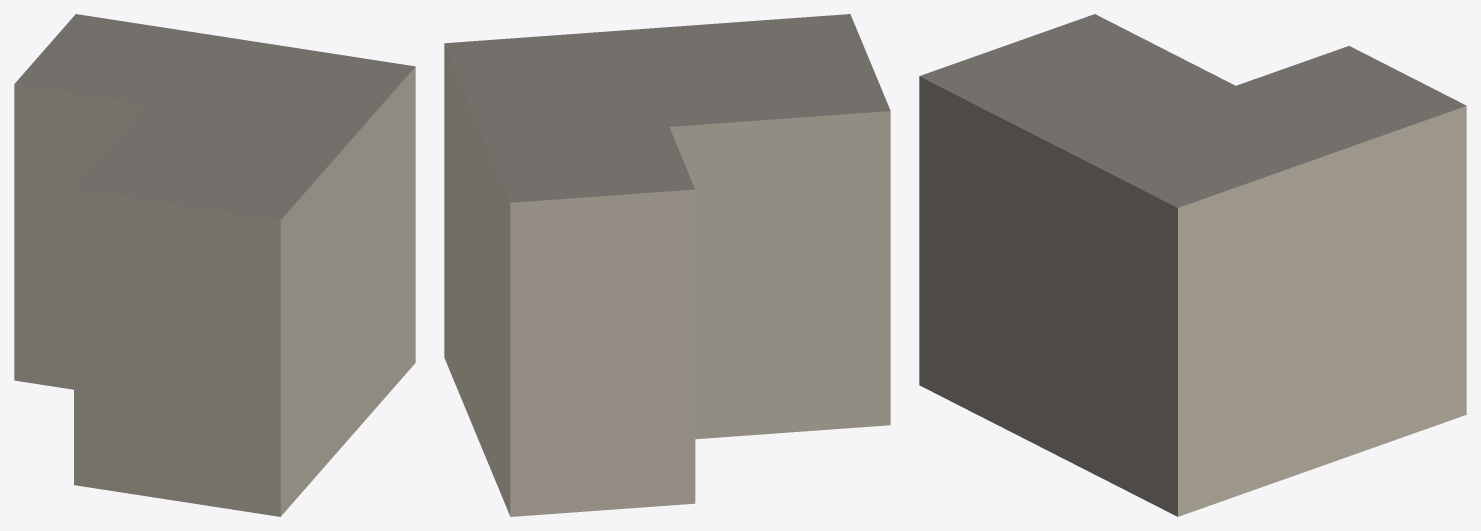
3 views of the same model, side by side, from view 1: azimuth 30°, elevation 25°; view 2: azimuth 150°, elevation 25°; view 3: azimuth 270°, elevation 25° (orthographic). The views are drawn at different scales.
Parts seen in each view (by area): view 1: HP-w859488872; view 2: HP-w859488872; view 3: HP-w859488872.
Boxes of the visible parts, x1=… form: HP-w859488872: x1=14, y1=14, x2=415, y2=516; HP-w859488872: x1=444, y1=14, x2=890, y2=516; HP-w859488872: x1=919, y1=14, x2=1466, y2=516.
Bounding box in the file's own units: 24.24 × 18 × 28.92.
